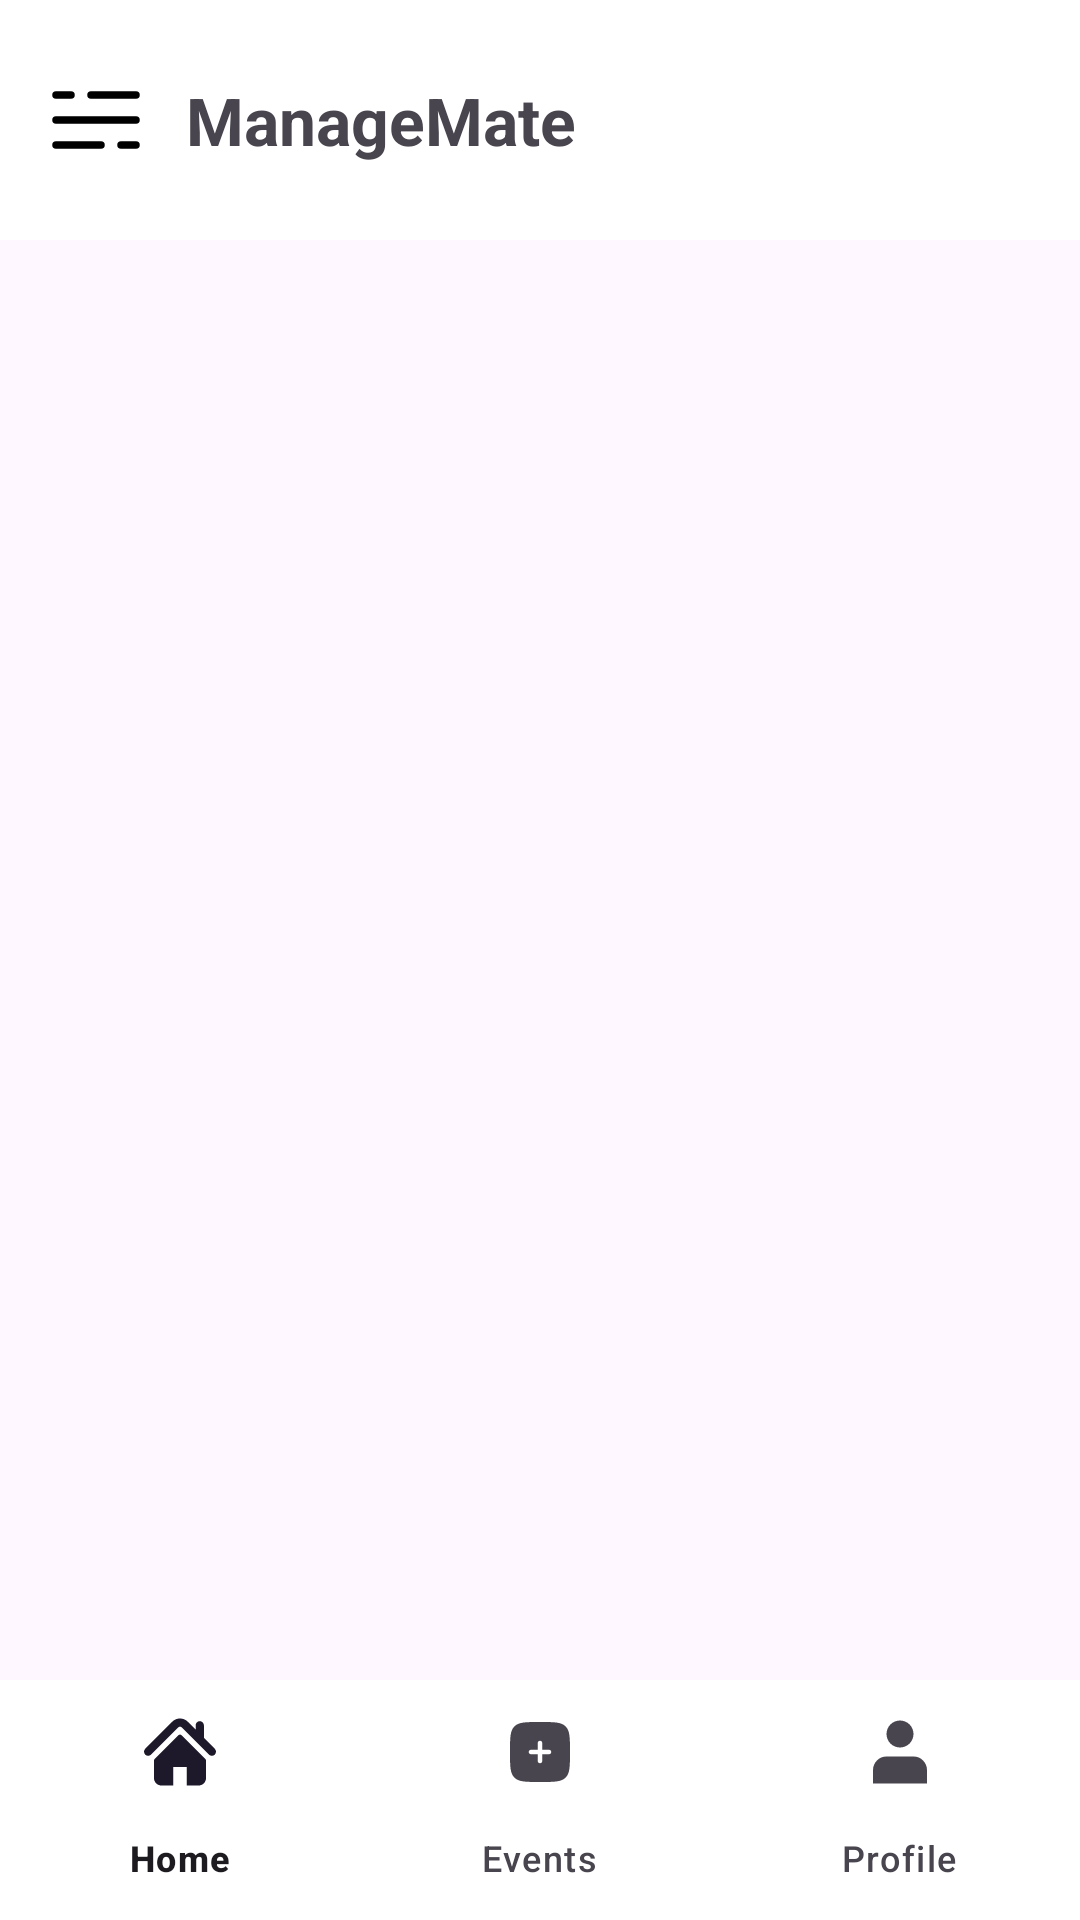

Icon bounding boxes for this 1080 x 1920 phone screenshot, format {"left": x1, "top": y1, "right": x2, "bottom": y2}:
menu: {"left": 52, "top": 91, "right": 140, "bottom": 149}
